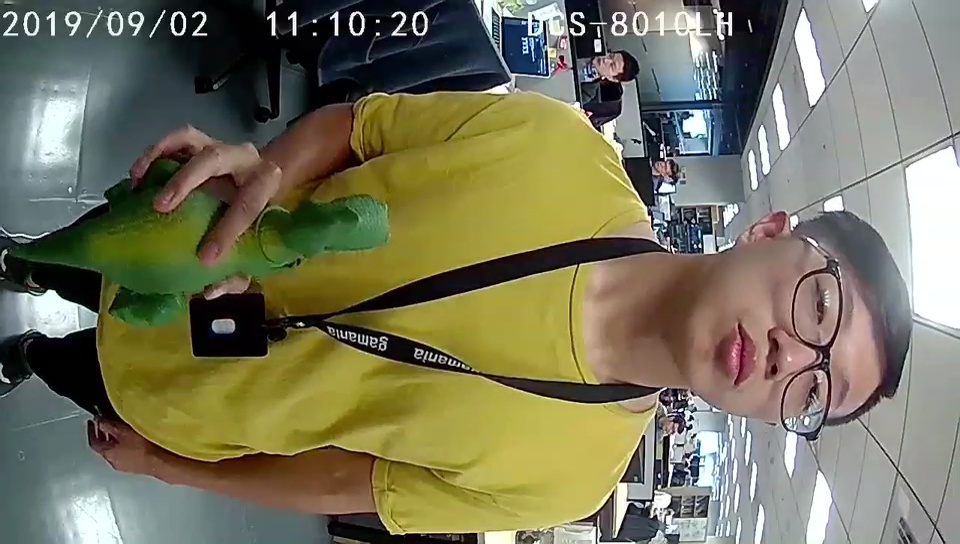rex: (101, 181, 392, 330)
